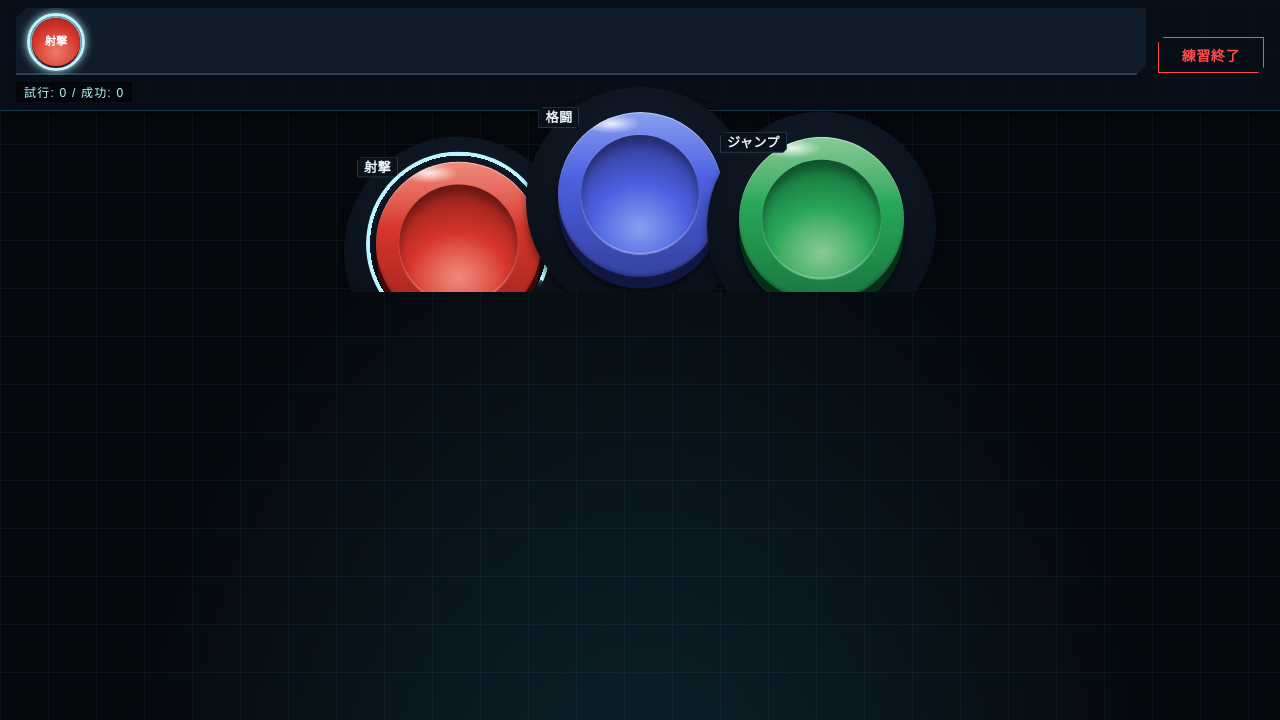
Scenario: 練習セッション結果フロー 統合テスト › 成功・失敗混在後の SessionResult DOM 確認 › 成功1回・失敗1回後のサマリが DOM に存在する
Press the mouse on the button "射撃" at (458, 244), box [376,162,541,327]
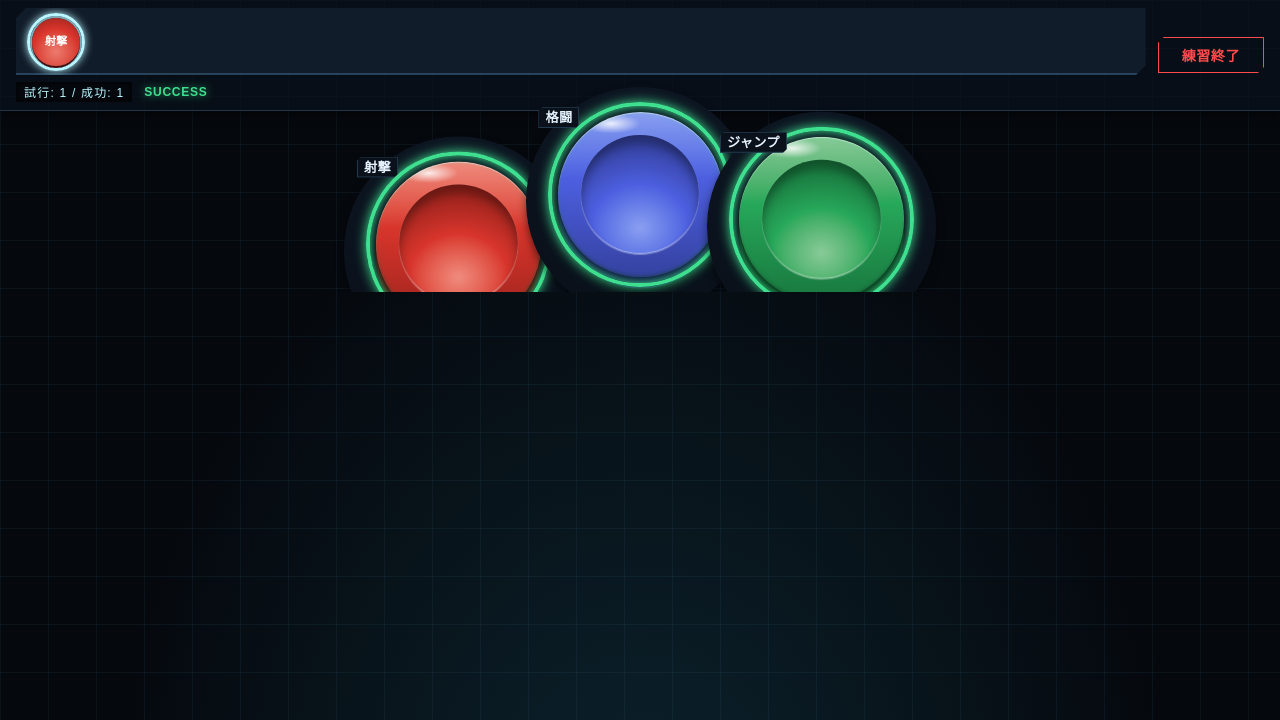
Press the mouse on the button "ジャンプ" at (822, 219), box [739,137,904,302]
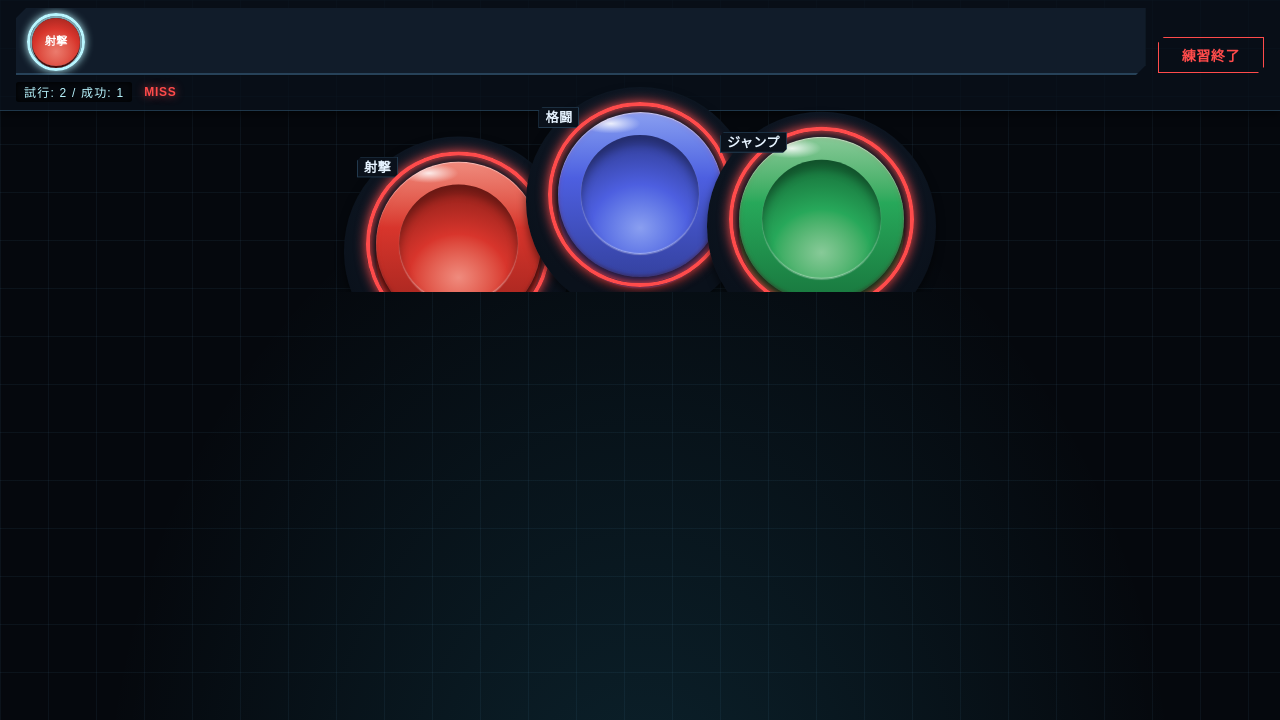
Click the button "練習終了" at (1211, 55), box [1158,37,1264,73]
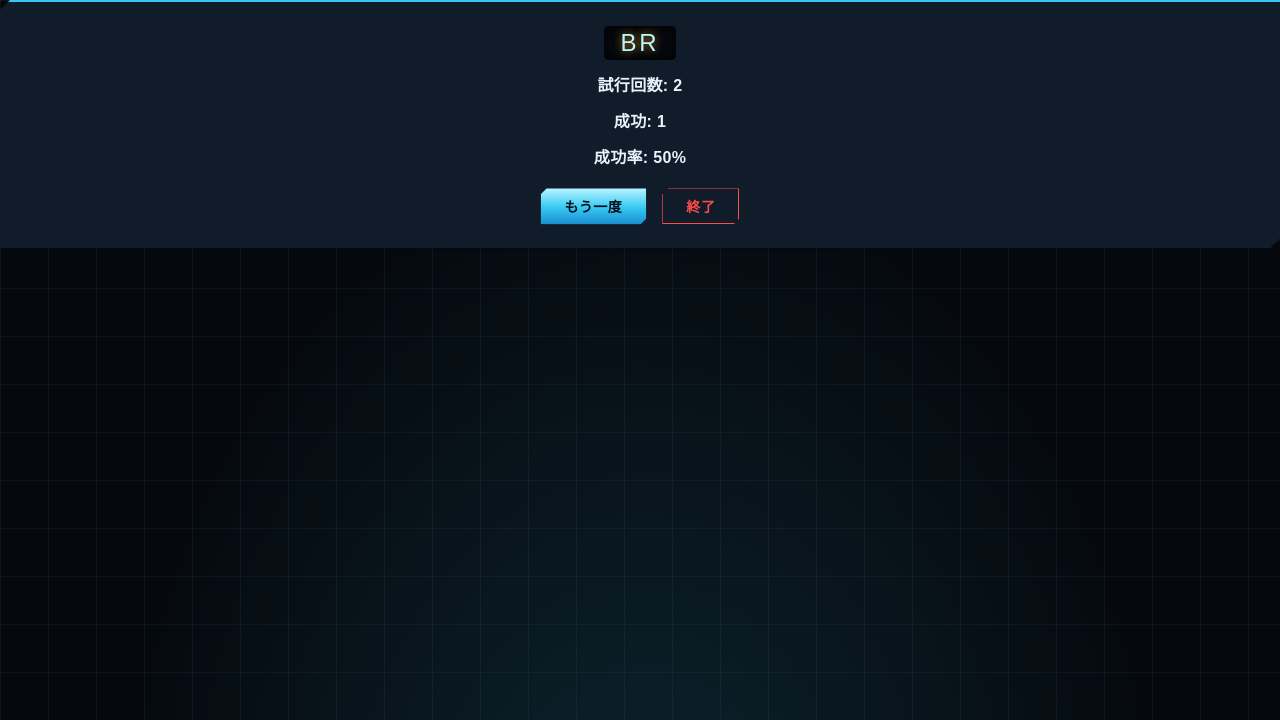
Check: the text with test id "success-count" shows "1", box [657,113,666,130]
Check: the element with test id "session-result" is shown, box [0,0,1279,248]
Check: the text with test id "total-attempts" shows "2", box [673,77,682,94]
